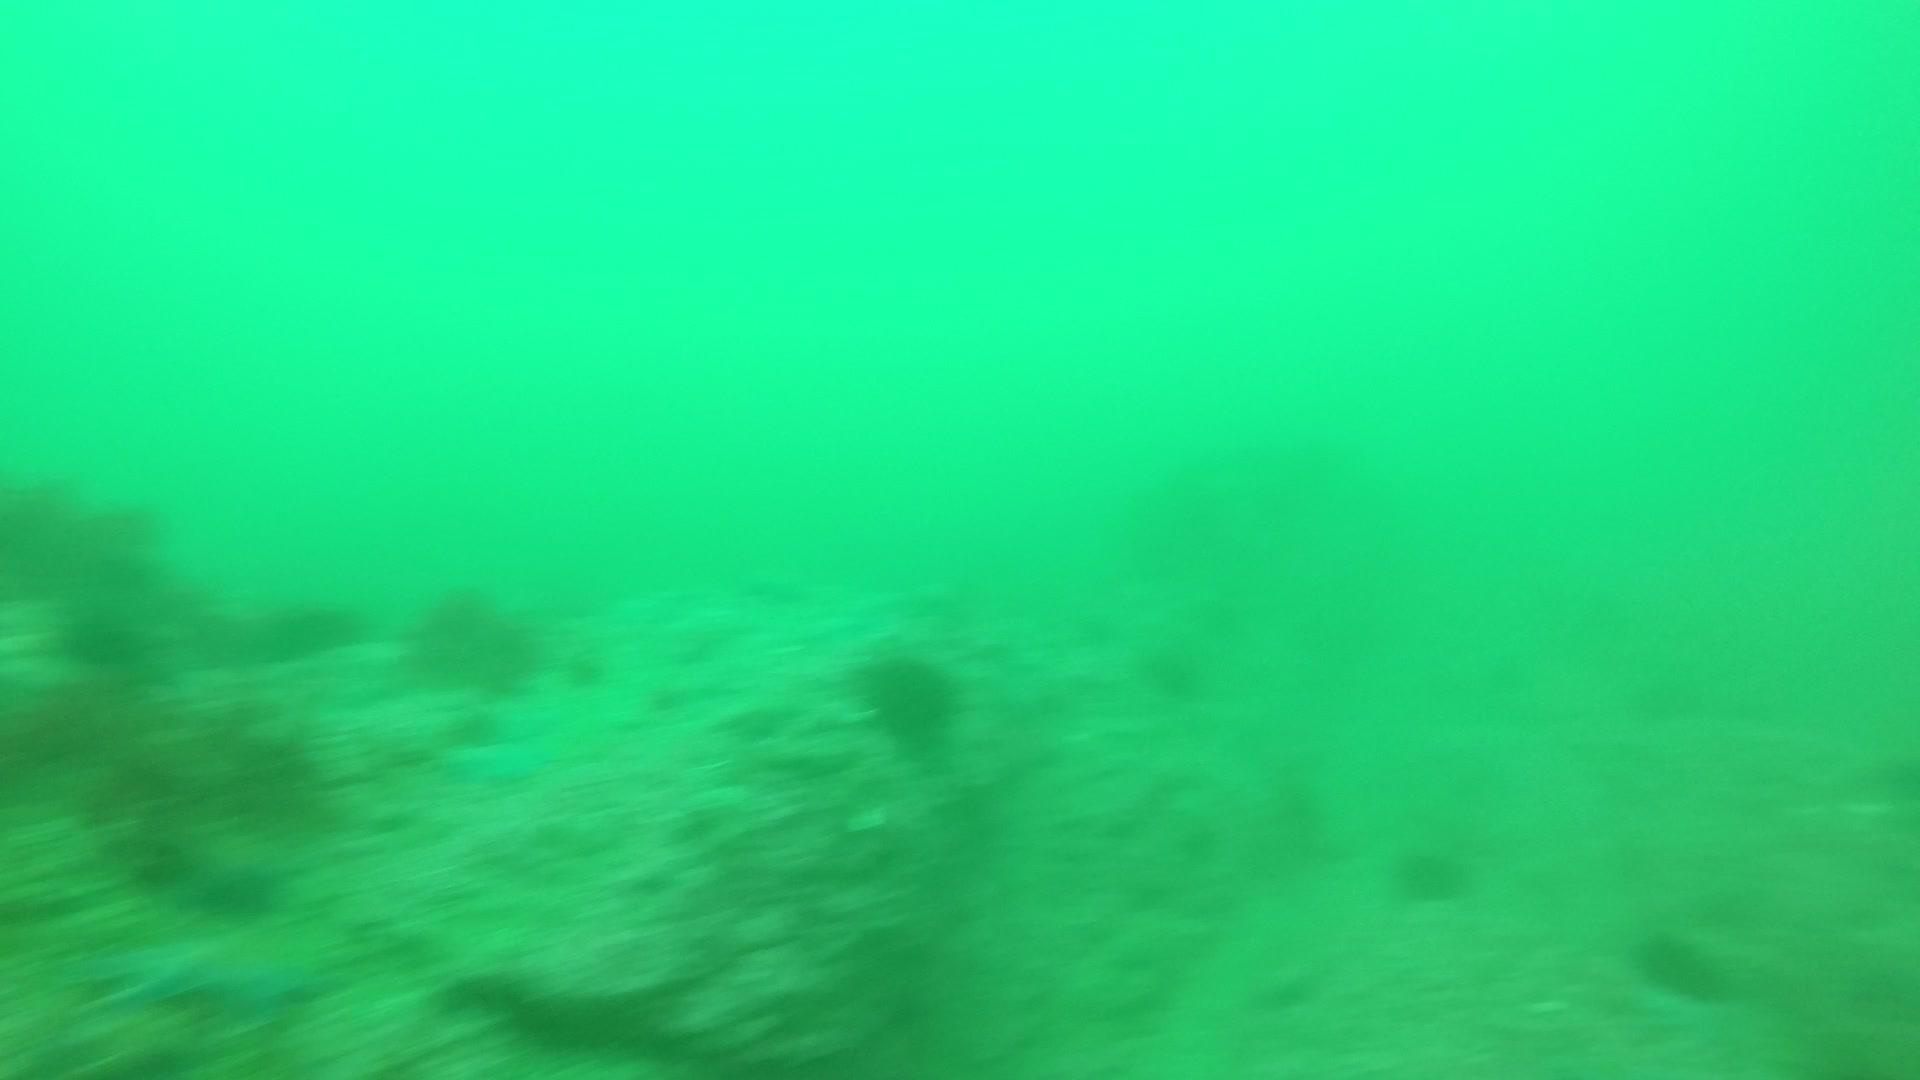echinus: (404, 583, 545, 699), (851, 641, 967, 749), (1629, 922, 1731, 1006), (1387, 835, 1476, 909)
starfish: (84, 911, 342, 1017), (440, 733, 553, 791)
